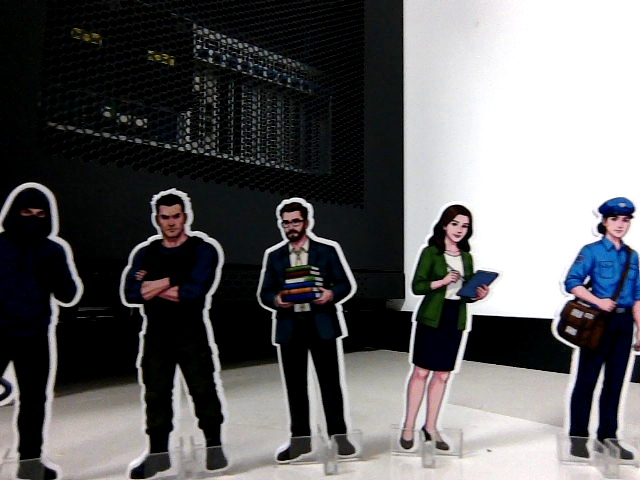community_person: (250, 190, 369, 477), (393, 194, 505, 470), (548, 188, 640, 475)
outsider: (112, 179, 240, 480), (0, 170, 93, 478)
